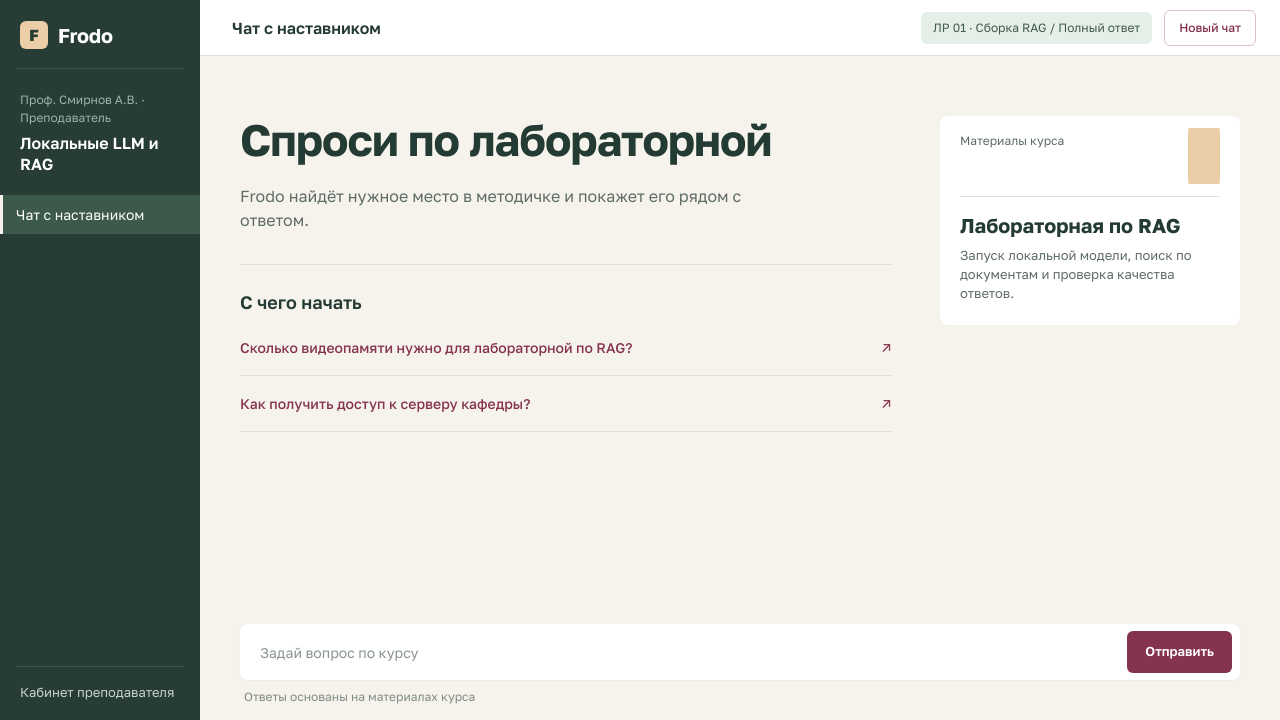
Test case: маршрутизация приложения › переводит в кабинет преподавателя по ссылке из сайдбара
Click the link "Кабинет преподавателя". click: (97, 692)
box: [20,684,174,700]
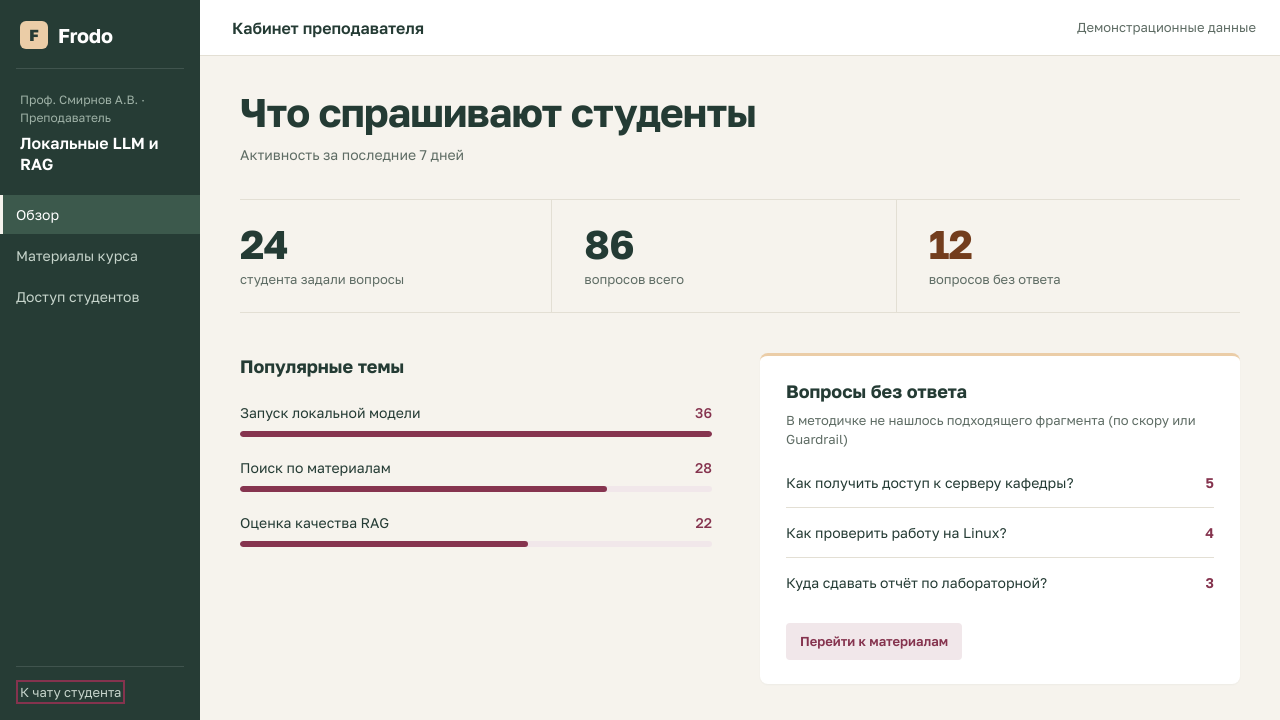
Expected: the heading "Что спрашивают студенты" is shown, [240,88,756,136]
